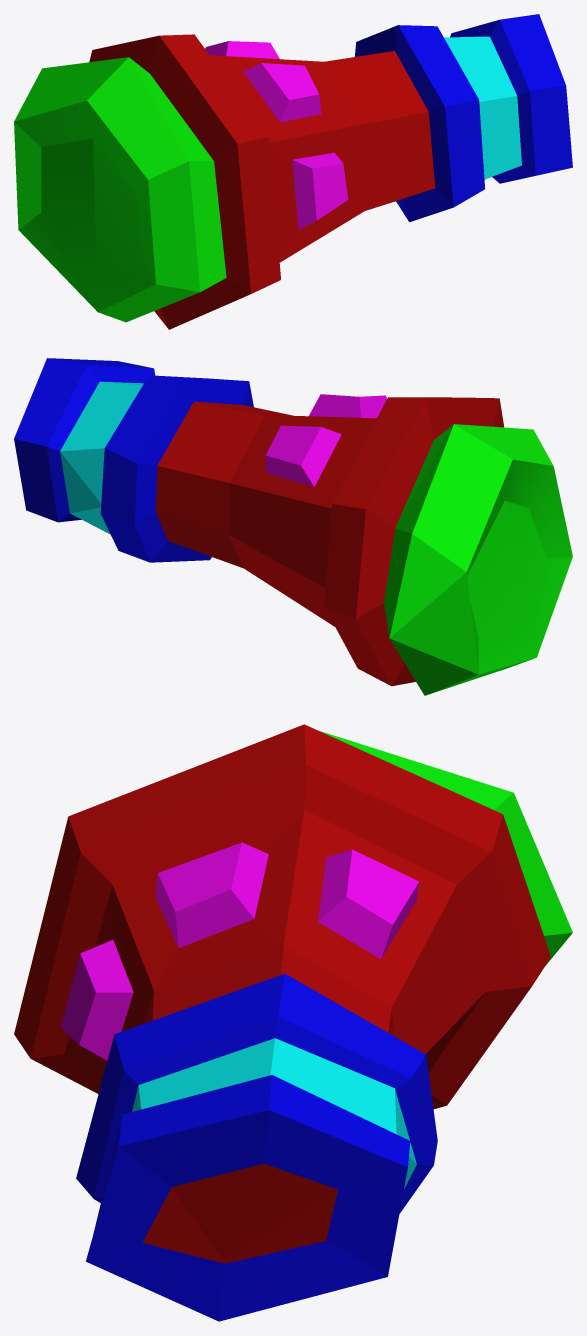
The model's file is Chr_ArmLowerLeft_Male_Static_15.fbx.
3 views of the same model, one above another, from view 1: azimuth 30°, elevation 25°; view 2: azimuth 150°, elevation 25°; view 3: azimuth 270°, elevation 25° (orthographic). The views are drawn at different scales.
Parts seen in each view (by area): view 1: Chr_ArmLowerLeft_Male_15; view 2: Chr_ArmLowerLeft_Male_15; view 3: Chr_ArmLowerLeft_Male_15.
Boxes of the visible parts, x1,y1,x2,y2 form: Chr_ArmLowerLeft_Male_15: (14, 14, 572, 329); Chr_ArmLowerLeft_Male_15: (14, 358, 572, 695); Chr_ArmLowerLeft_Male_15: (14, 724, 572, 1321).
Size of the model in its own units: 30.02 by 16.9 by 19.52.
